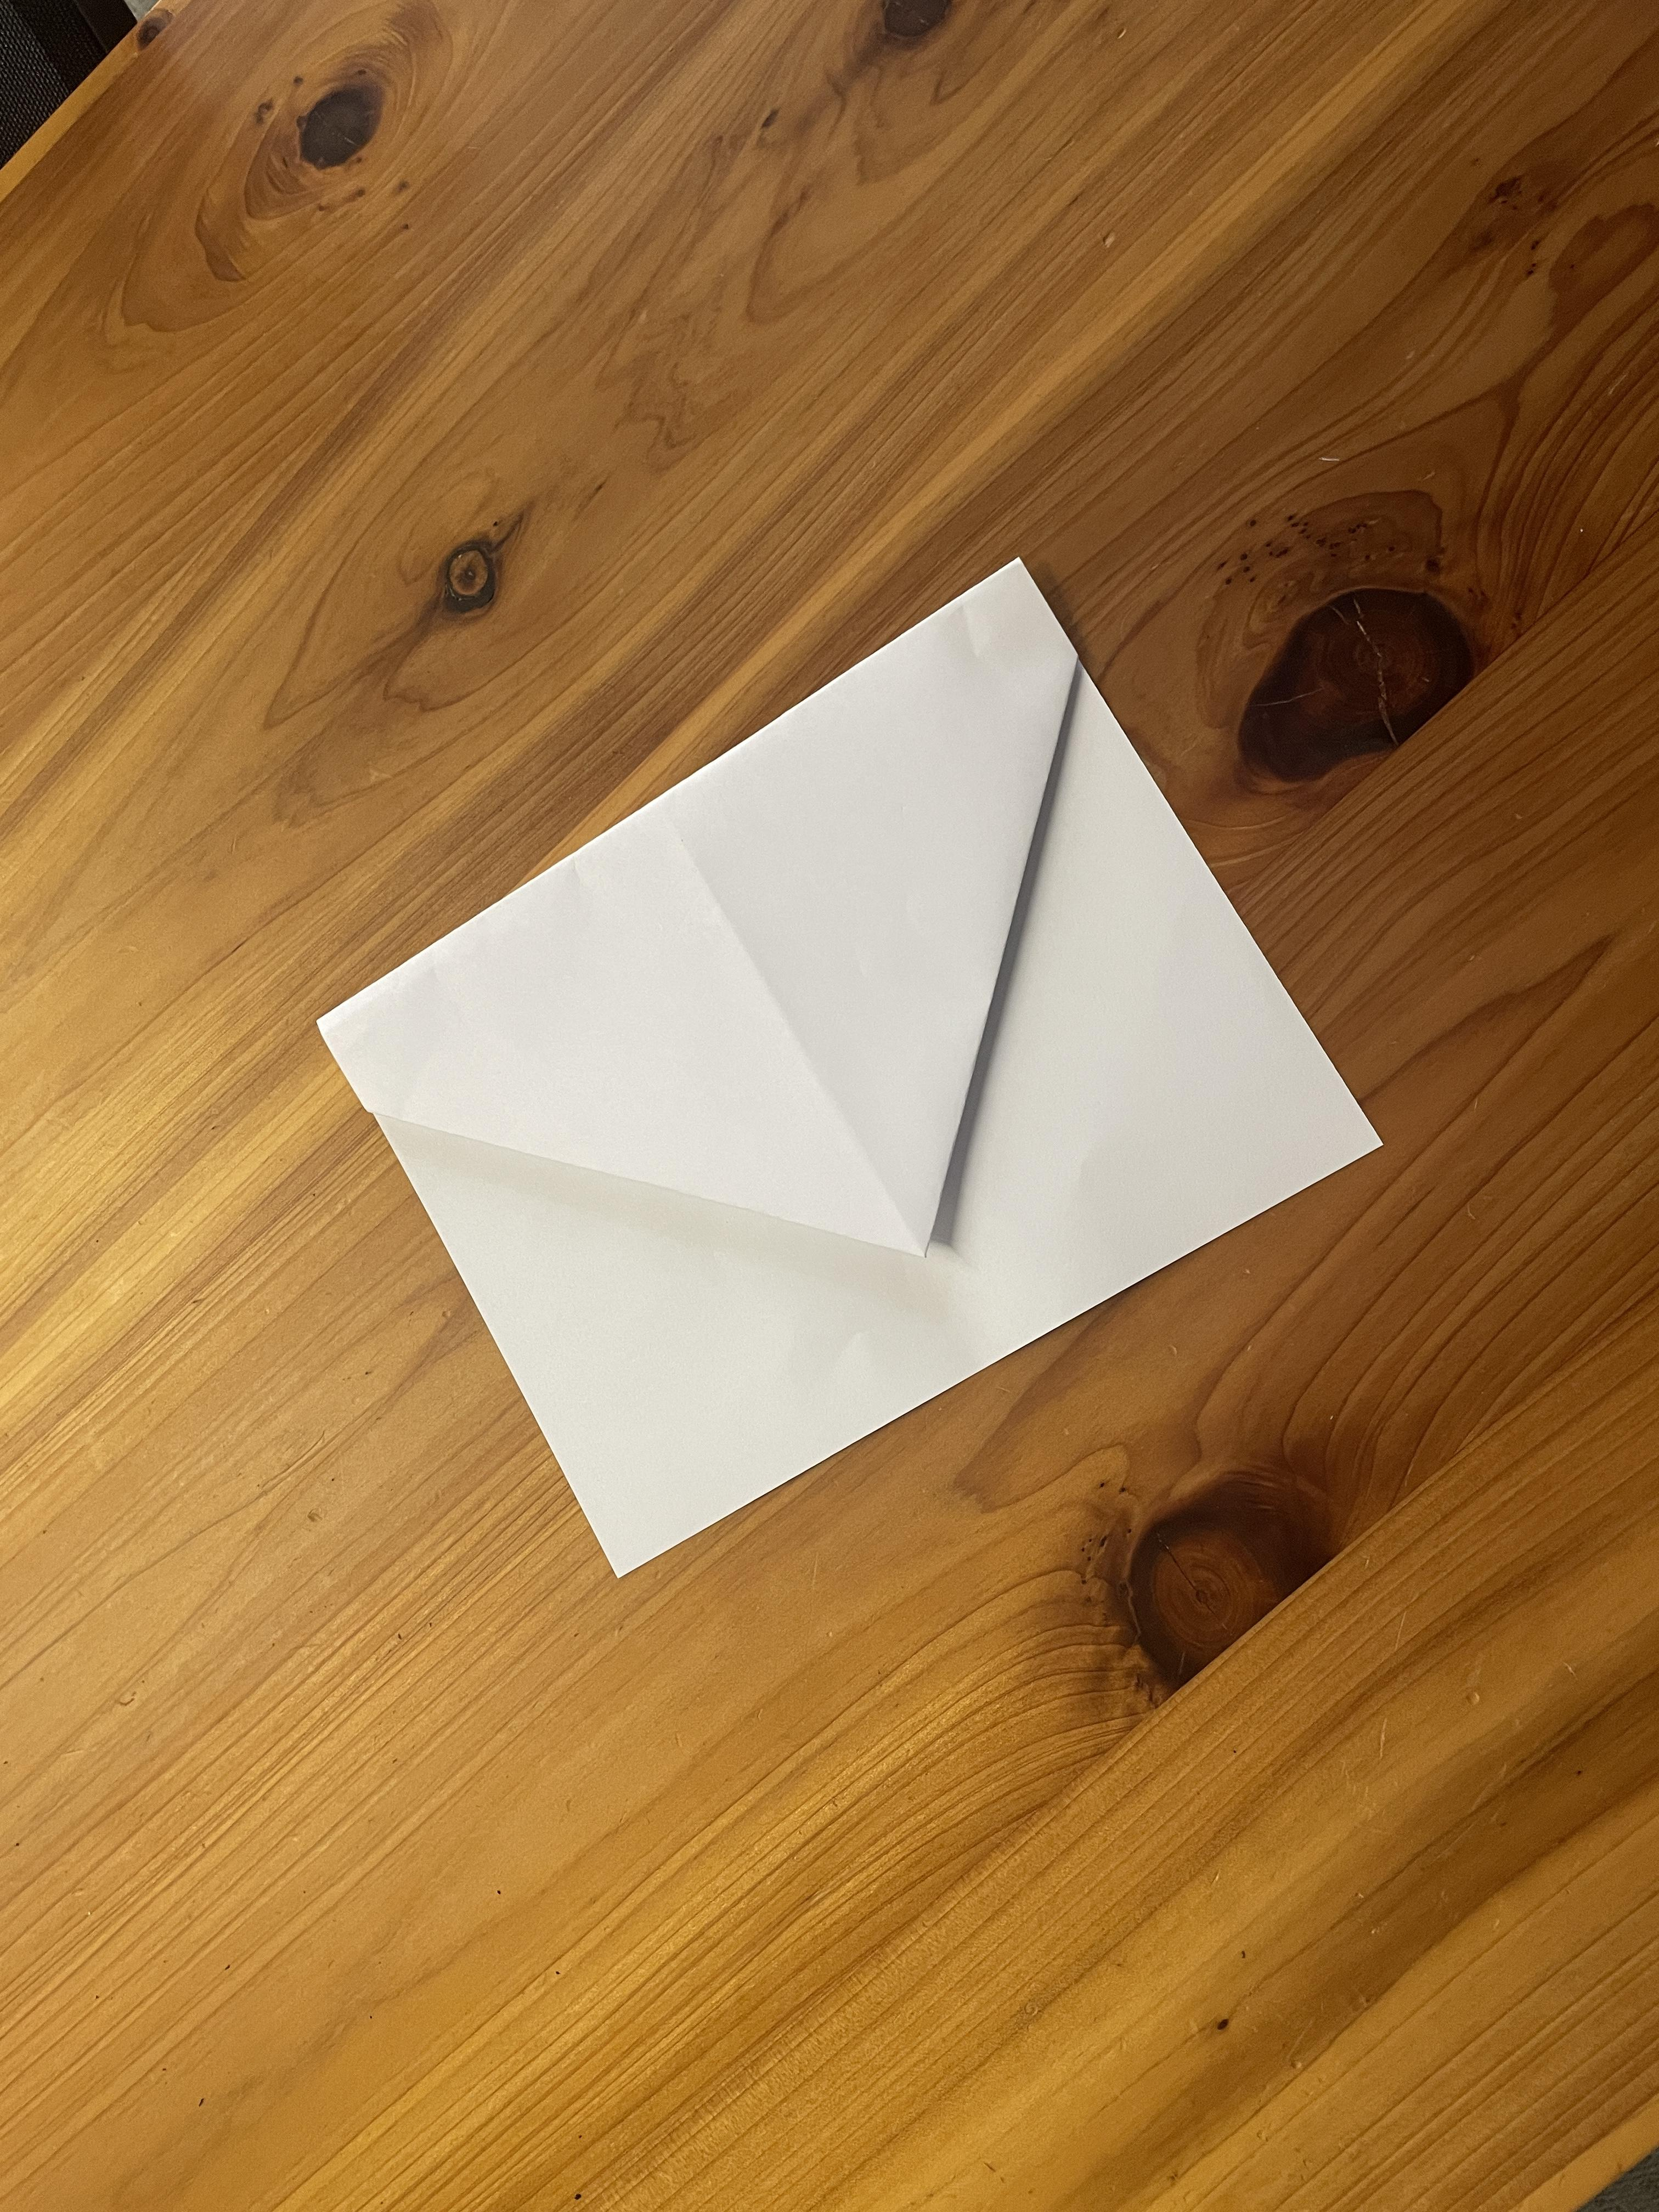shape_1: (274, 474, 1486, 1688)
